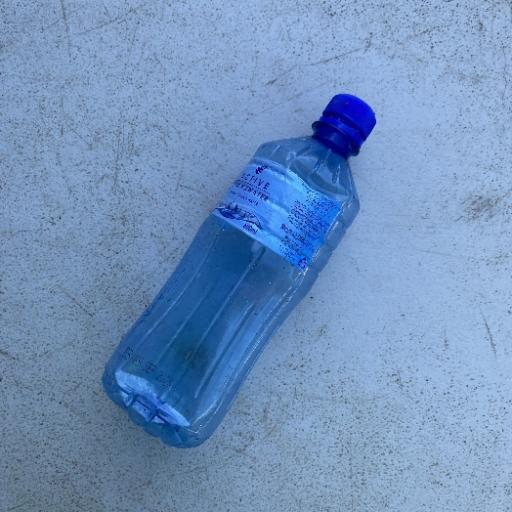Plastic: (99, 90, 378, 450)
